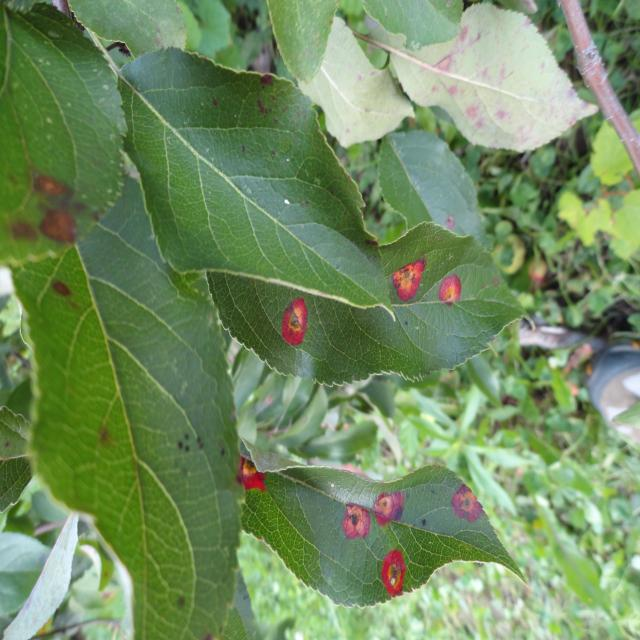Rust: (218, 432, 275, 506), (274, 289, 321, 375), (436, 248, 475, 340), (445, 468, 492, 537), (379, 249, 435, 304), (374, 471, 411, 541), (381, 546, 412, 626), (338, 488, 374, 556)
